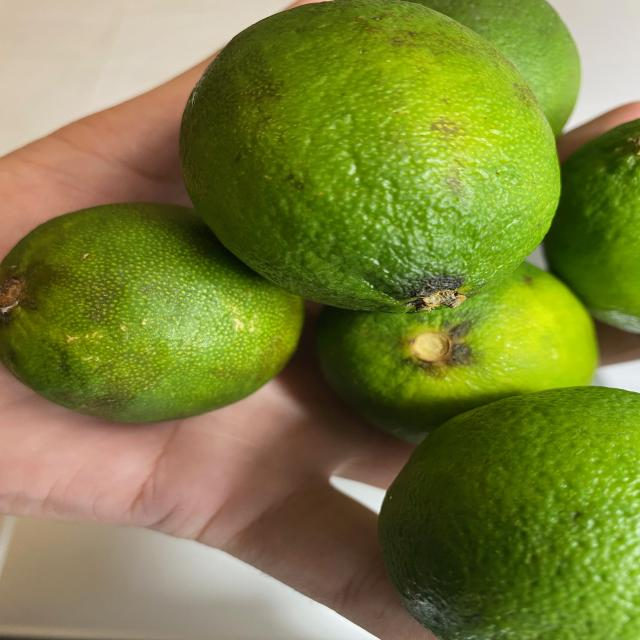lemon: (23, 9, 640, 640)
